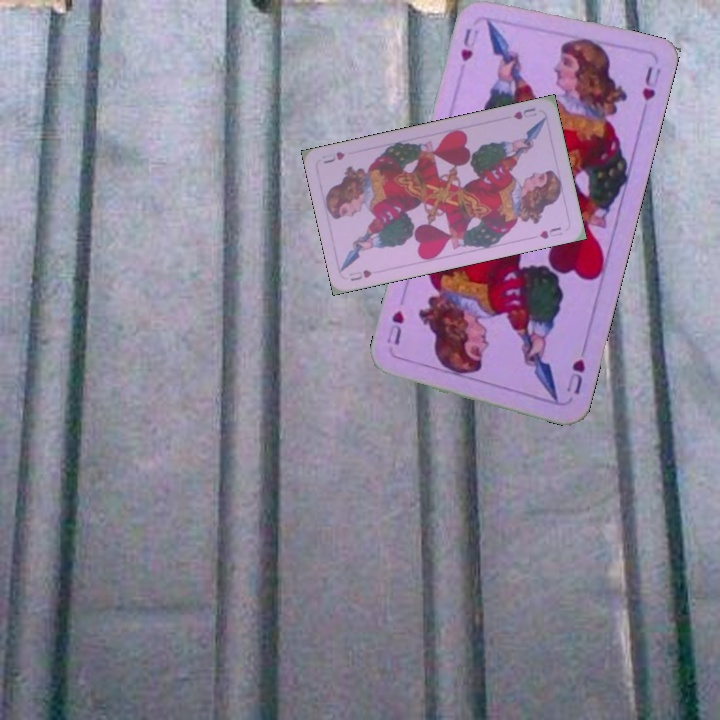HU: (562, 355, 588, 397), (456, 24, 476, 64), (509, 103, 539, 122), (345, 266, 375, 284)
